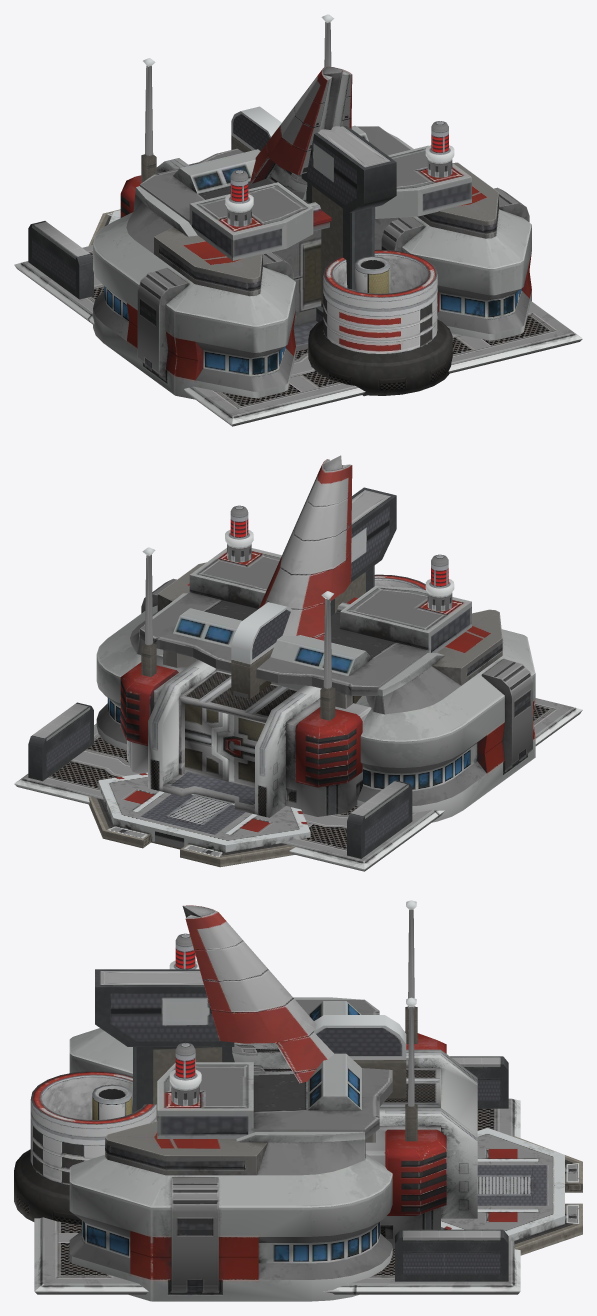
File: Building - 09-COkA2EHg.glb
3 views of the same model, one above another, from view 1: azimuth 30°, elevation 25°; view 2: azimuth 150°, elevation 25°; view 3: azimuth 270°, elevation 25° (orthographic). The views are drawn at different scales.
Parts seen in each view (by area): view 1: Main_form_05, Main_form_07, Extras_08, Main_form_05 (1), Pad_06, Fence_07, Pylon_04, Fence_03 (1), Pillar_01, Tube_04_half, Detail_08 (1), Detail_08 (+2 smaller); view 2: Main_form_05, Door_04_frame, Main_form_07, Pad_07, Pylon_04, Pad_06, Main_form_05 (1), Fence_07, Pillar_01, Fence_03, Fence_03 (1), Door_04_left (+6 smaller); view 3: Main_form_05 (1), Main_form_07, Door_04_frame, Pylon_04, Fence_07, Pad_07, Extras_08, Pad_06, Fence_03, Pillar_01, Main_form_05, Fence_03 (1) (+5 smaller).
Boxes of the visible parts, x1,y1,x2,y2 form: Main_form_05: (93, 186, 295, 399); Main_form_07: (140, 125, 471, 351); Extras_08: (308, 249, 452, 395); Main_form_05 (1): (381, 132, 531, 340); Pad_06: (14, 245, 582, 426); Fence_07: (301, 125, 396, 396); Pylon_04: (250, 66, 352, 200); Fence_03 (1): (28, 221, 93, 299); Pillar_01: (231, 106, 281, 152); Tube_04_half: (355, 256, 390, 293); Detail_08 (1): (425, 121, 454, 177); Detail_08: (225, 170, 253, 226); Main_form_05: (356, 609, 535, 822); Door_04_frame: (120, 655, 371, 817); Main_form_07: (140, 548, 471, 708); Pad_07: (88, 772, 310, 867); Pylon_04: (258, 455, 352, 640); Pad_06: (14, 698, 582, 871); Main_form_05 (1): (96, 562, 206, 750); Fence_07: (330, 487, 396, 615); Pillar_01: (231, 602, 291, 698); Fence_03: (28, 702, 93, 781); Fence_03 (1): (347, 780, 412, 858); Door_04_left: (185, 703, 228, 781); Main_form_05 (1): (69, 1121, 392, 1301); Main_form_07: (157, 999, 392, 1142); Door_04_frame: (365, 1033, 477, 1248); Pylon_04: (182, 905, 333, 1083); Fence_07: (95, 969, 234, 1120); Pad_07: (441, 1127, 582, 1255); Extras_08: (14, 1071, 156, 1224); Pad_06: (34, 1098, 520, 1294); Fence_03: (395, 1229, 508, 1281); Pillar_01: (313, 1015, 406, 1098); Main_form_05: (69, 997, 360, 1076); Fence_03 (1): (450, 1056, 508, 1108).
Size of the model in its own units: 5.14 by 3.85 by 6.13.
8 materials, 8 textured.
